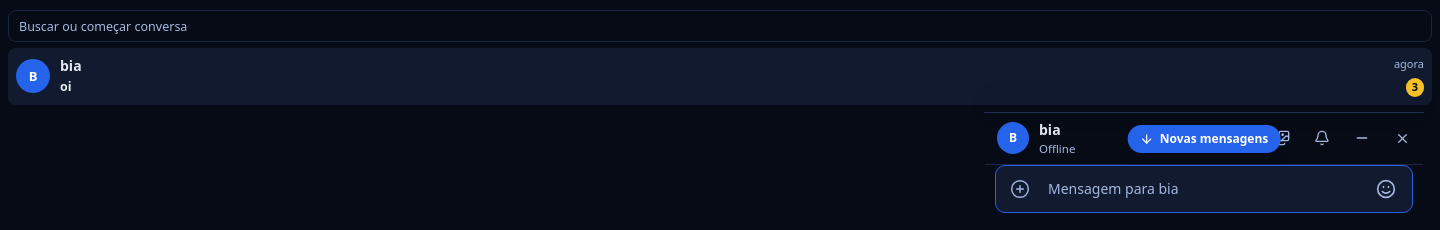
it: a janela da conversa › o sino silencia a conversa: o número some, a não ser pelas menções
Later steps or results of the test are not shown.
(page scrolled)
Expected: the text named "3 não lidas" is shown, [1406,78,1424,97]
Click the button named "Silenciar conversa".
click(1322, 138)  # box [1307,123,1337,153]
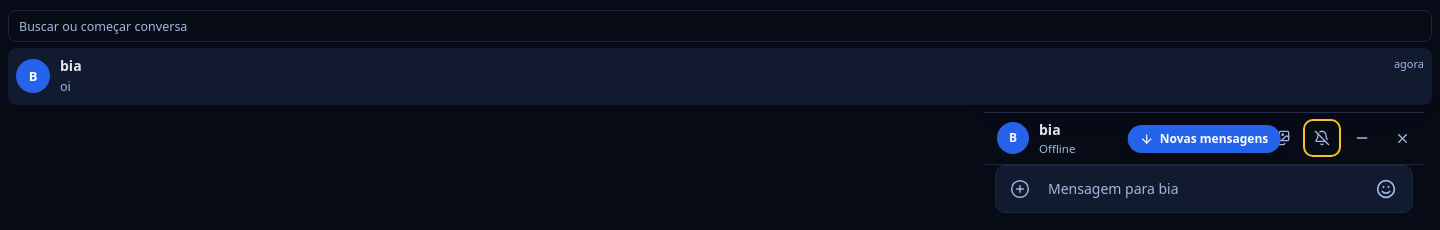
Expected: the button named "Silenciar conversa" is pressed, [1307,123,1337,153]
